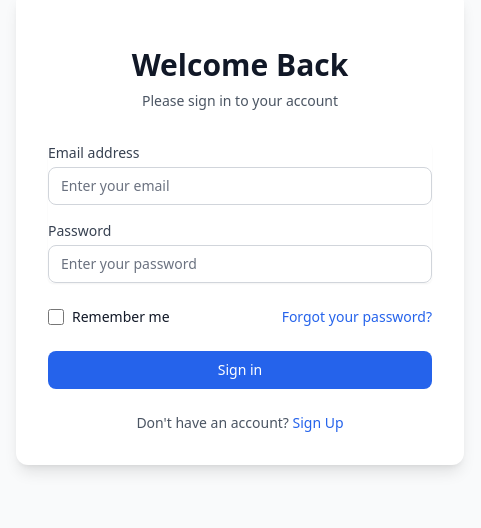
Test case: Login Component › displays validation errors when the form is submitted empty
# Trigger form submit without filling in the fields
Click the button "Sign in" at (240, 370), box [48, 351, 432, 389]
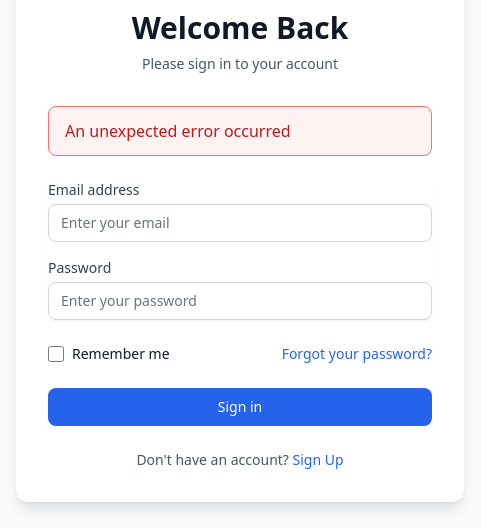
Now the text "An unexpected error occurred" is shown, box [48, 106, 432, 156]
Now the text with test id "error-message" reads "An unexpected error occurred", box [65, 120, 291, 142]
